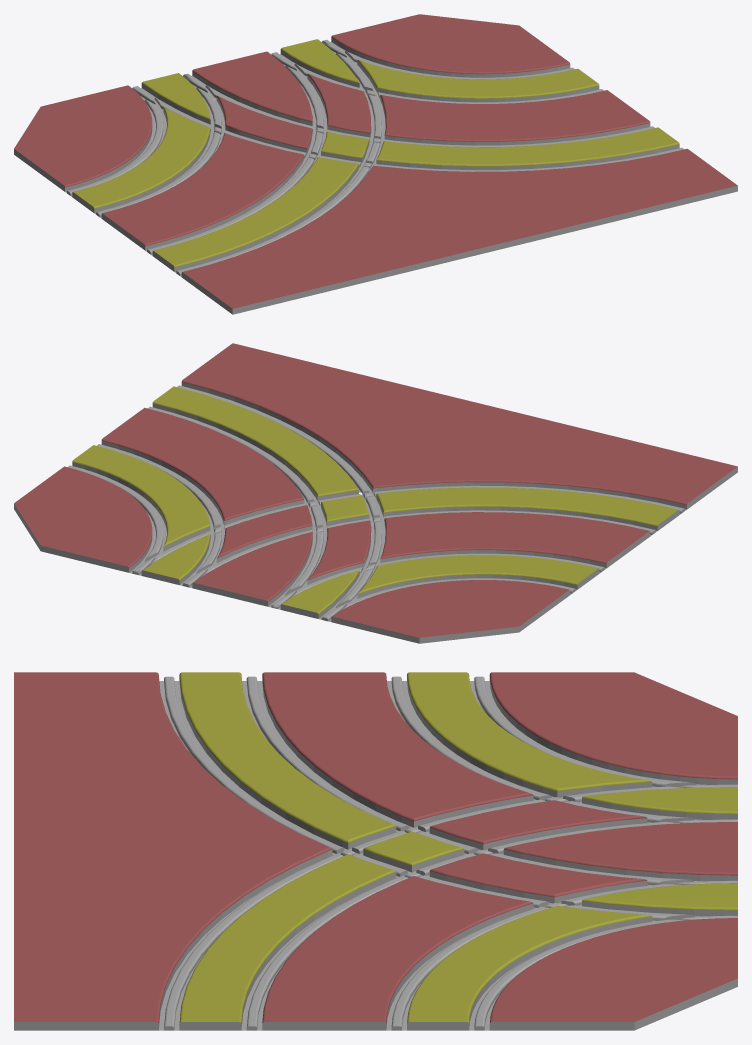
The model's file is railTSplit.fbx.
3 renders of one model, top to bottom at view 1: azimuth 30°, elevation 25°; view 2: azimuth 150°, elevation 25°; view 3: azimuth 270°, elevation 25°, orthographic. The views are drawn at different scales.
Parts seen in each view (by area): view 1: polySurface32; view 2: polySurface32; view 3: polySurface32.
Part boxes in pixels (x1,y1,x2,y2): polySurface32: (14, 14, 737, 314); polySurface32: (14, 343, 737, 643); polySurface32: (14, 672, 737, 1030).
Bounding box in the file's own units: 800 × 9 × 700.
